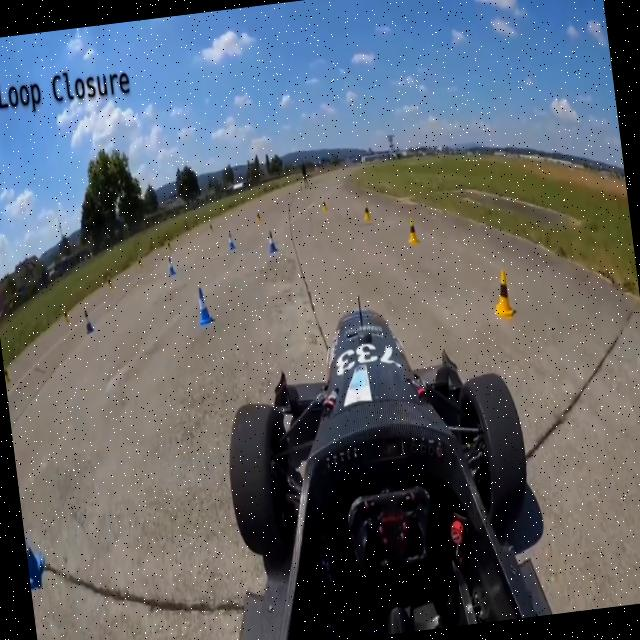blue_cone: (22, 507, 50, 592), (192, 280, 216, 328), (82, 307, 95, 336), (266, 227, 278, 254), (165, 254, 175, 278), (227, 228, 236, 251)
yellow_cone: (488, 265, 518, 320), (405, 214, 422, 246), (361, 200, 373, 222), (3, 364, 12, 388), (254, 208, 262, 228), (62, 305, 70, 324), (320, 197, 328, 214), (106, 276, 114, 292), (166, 238, 174, 253), (136, 256, 144, 270), (208, 222, 215, 236)
